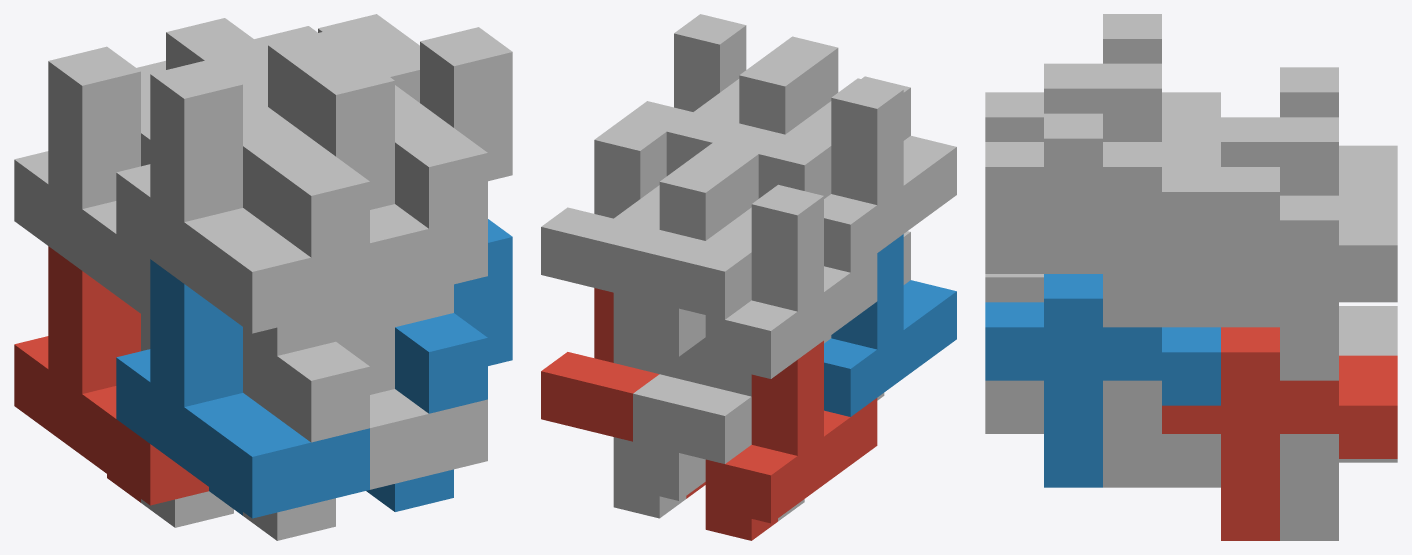
Rendered from tiling.obj.
3 views of the same model, side by side, from view 1: azimuth 30°, elevation 25°; view 2: azimuth 150°, elevation 25°; view 3: azimuth 270°, elevation 25° (orthographic). The views are drawn at different scales.
Visible parts, largest first — view 1: copy_1_domain_4, copy_1_domain_2, copy_2_domain_4, copy_2_domain_8, copy_1_domain_3, copy_1_domain_1, copy_2_domain_2, copy_2_domain_6, copy_1_domain_8, copy_1_domain_6, copy_2_domain_3, copy_1_domain_7 (+2 smaller); view 2: copy_1_domain_3, copy_1_domain_1, copy_1_domain_4, copy_2_domain_7, copy_1_domain_2, copy_2_domain_3, copy_2_domain_8, copy_1_domain_7, copy_2_domain_4, copy_2_domain_5, copy_2_domain_1, copy_1_domain_5 (+1 smaller); view 3: copy_2_domain_6, copy_2_domain_8, copy_2_domain_5, copy_2_domain_7, copy_1_domain_7, copy_1_domain_8, copy_1_domain_5, copy_1_domain_6, copy_2_domain_4, copy_2_domain_3, copy_1_domain_3, copy_1_domain_4 (+2 smaller).
Boxes of the visible parts, left/top/right/bottom form: copy_1_domain_4: left=116, top=59, right=369, bottom=333; copy_1_domain_2: left=116, top=259, right=369, bottom=518; copy_2_domain_4: left=239, top=56, right=394, bottom=355; copy_2_domain_8: left=356, top=27, right=512, bottom=327; copy_1_domain_3: left=14, top=46, right=150, bottom=320; copy_1_domain_1: left=14, top=246, right=208, bottom=505; copy_2_domain_2: left=243, top=299, right=394, bottom=540; copy_2_domain_6: left=366, top=219, right=512, bottom=511; copy_1_domain_8: left=268, top=31, right=487, bottom=304; copy_1_domain_6: left=370, top=389, right=487, bottom=489; copy_2_domain_3: left=137, top=43, right=267, bottom=324; copy_1_domain_7: left=166, top=18, right=258, bottom=69; copy_1_domain_3: left=705, top=184, right=877, bottom=396; copy_1_domain_1: left=705, top=340, right=877, bottom=540; copy_1_domain_4: left=824, top=78, right=956, bottom=272; copy_2_domain_7: left=541, top=120, right=666, bottom=297; copy_1_domain_2: left=824, top=234, right=956, bottom=416; copy_2_domain_3: left=633, top=143, right=758, bottom=319; copy_2_domain_8: left=621, top=14, right=746, bottom=175; copy_1_domain_7: left=613, top=162, right=732, bottom=373; copy_2_domain_4: left=713, top=36, right=910, bottom=198; copy_2_domain_5: left=541, top=288, right=705, bottom=498; copy_2_domain_1: left=633, top=374, right=804, bottom=521; copy_1_domain_5: left=613, top=337, right=705, bottom=518; copy_2_domain_6: left=985, top=274, right=1220, bottom=487; copy_2_domain_8: left=985, top=113, right=1220, bottom=273; copy_2_domain_5: left=1162, top=327, right=1397, bottom=540; copy_2_domain_7: left=1162, top=167, right=1397, bottom=327; copy_1_domain_7: left=1162, top=117, right=1397, bottom=380; copy_1_domain_8: left=985, top=63, right=1161, bottom=327; copy_1_domain_5: left=1162, top=434, right=1397, bottom=540; copy_1_domain_6: left=985, top=380, right=1161, bottom=487; copy_2_domain_4: left=985, top=63, right=1220, bottom=141; copy_2_domain_3: left=1221, top=117, right=1397, bottom=195; copy_1_domain_3: left=1280, top=67, right=1338, bottom=117; copy_1_domain_4: left=1103, top=14, right=1161, bottom=63.
Size of the model in its own units: 5 by 8 by 7.
